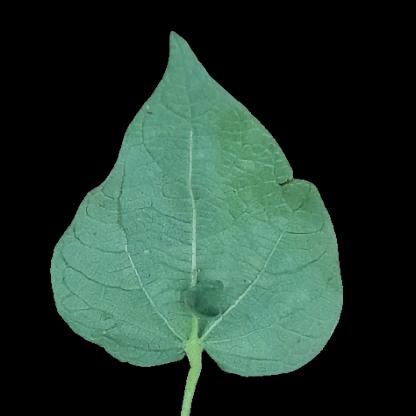curl_stage2: (142, 103, 262, 272), (72, 231, 148, 330), (242, 272, 326, 356), (266, 166, 318, 266)
leaf_enation: (171, 276, 237, 348)
